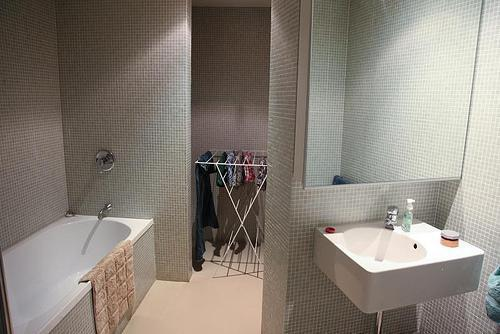Lavamanos: (318, 205, 484, 319)
